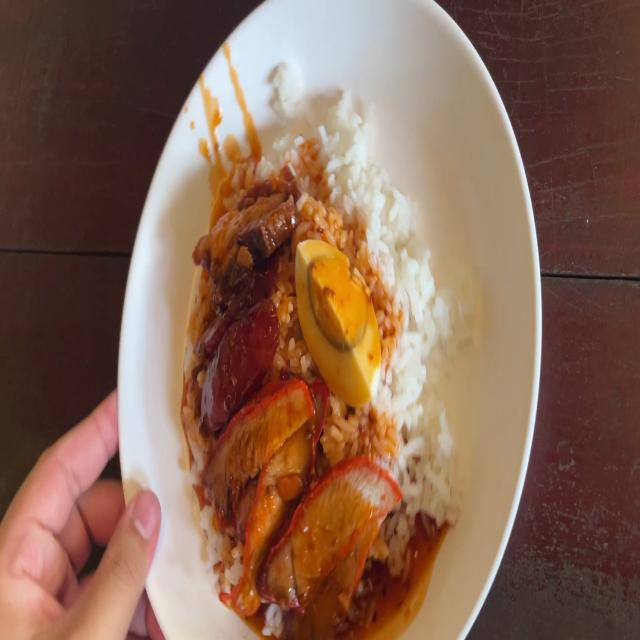01boiled_egg: (298, 244, 378, 400)
01chainese_sausage: (193, 269, 273, 412)
01crispy_pork: (197, 165, 301, 268)
01red_pork: (215, 390, 388, 612)
01red_pork_and_crispy_pork: (188, 105, 460, 627)
01rice: (382, 230, 460, 538), (296, 103, 402, 246)
